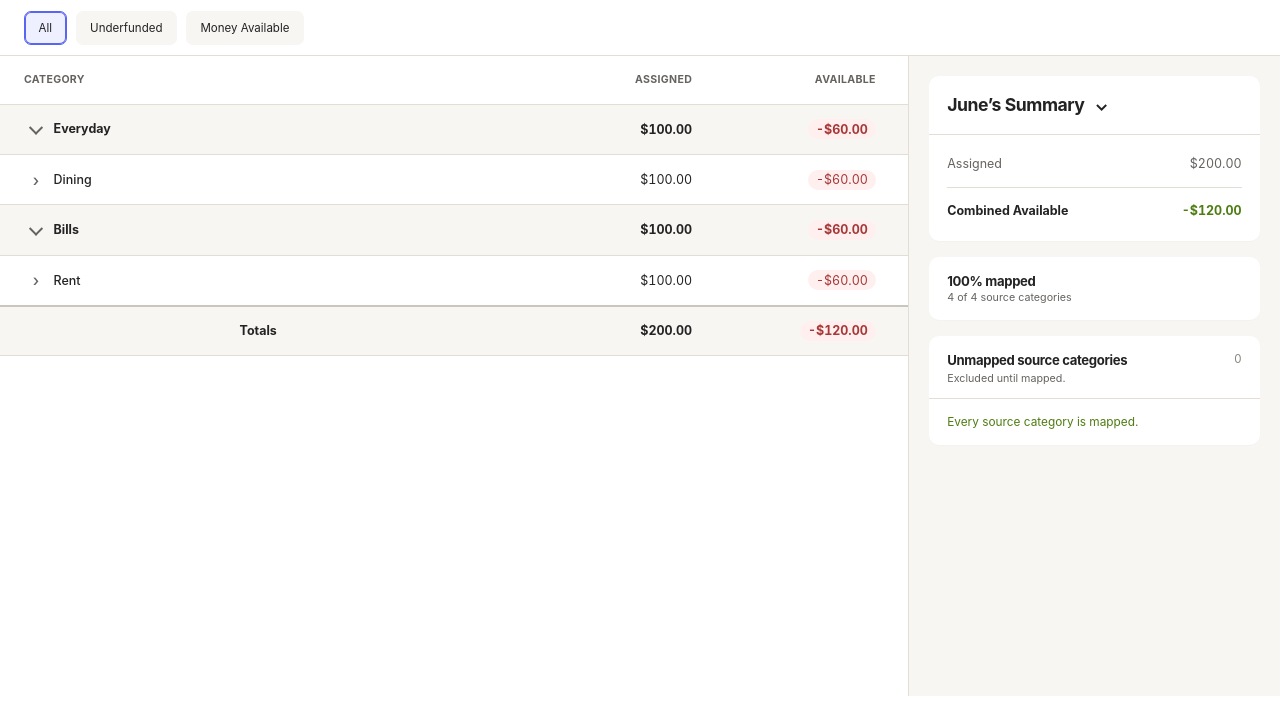
Test case: UnifiedBudgetTable category groups › collapses and expands a category group without affecting the other groups
The image size is (1280, 720).
Expected: the button with aria-label "Show plan breakdown for Dining" is shown, [24,166,492,193]
Expected: the button with aria-label "Show plan breakdown for Rent" is shown, [24,267,492,294]
Click the button with aria-label "Collapse Everyday group" at (82,129), box [24,115,492,143]
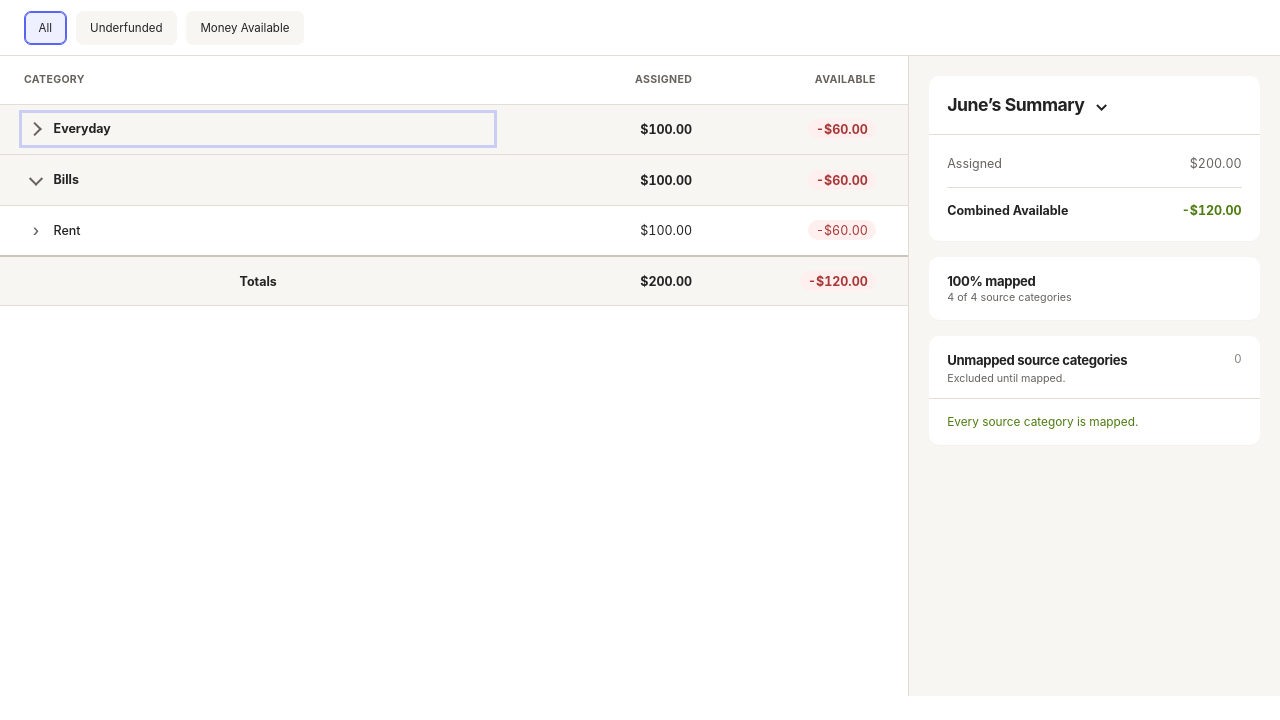
Expected: the button with aria-label "Show plan breakdown for Rent" is shown, [24,217,492,244]
Now the button with aria-label "Expand Everyday group" is collapsed
Click the button with aria-label "Expand Everyday group" at (82,129), box [24,115,492,143]
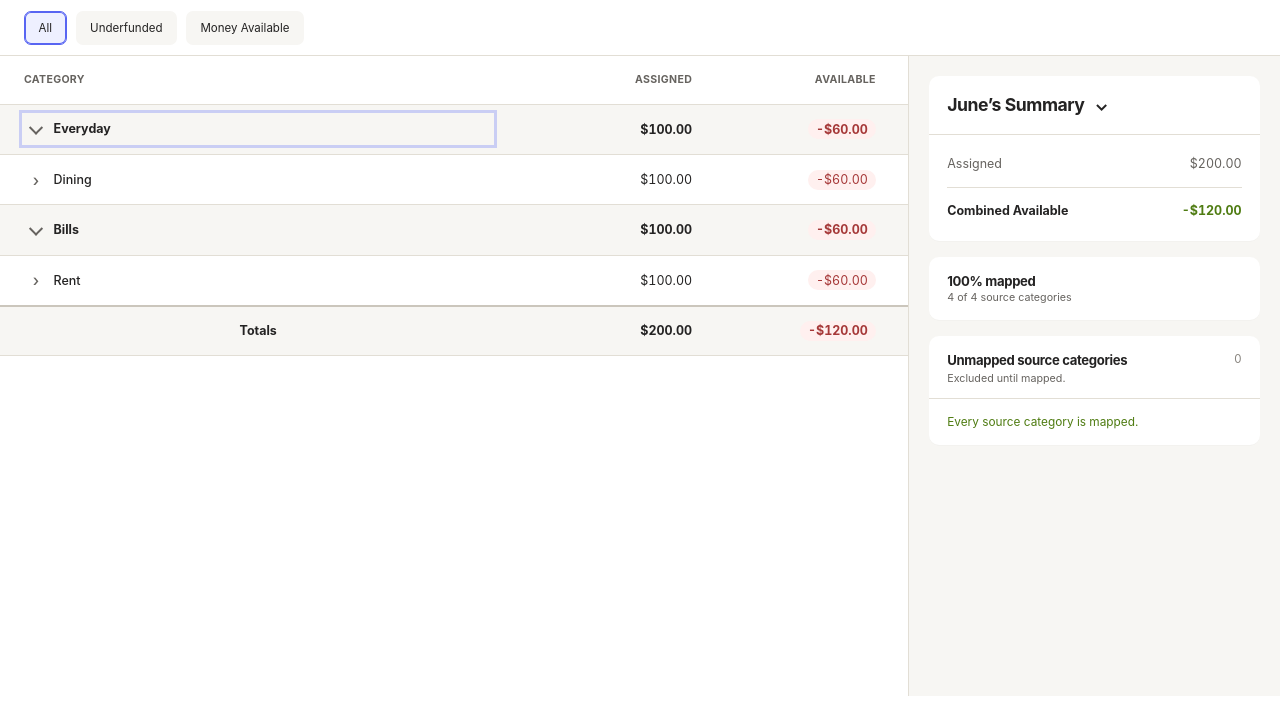
Now the button with aria-label "Collapse Everyday group" is expanded, box [24,115,492,143]
Now the button with aria-label "Show plan breakdown for Dining" is shown, box [24,166,492,193]
